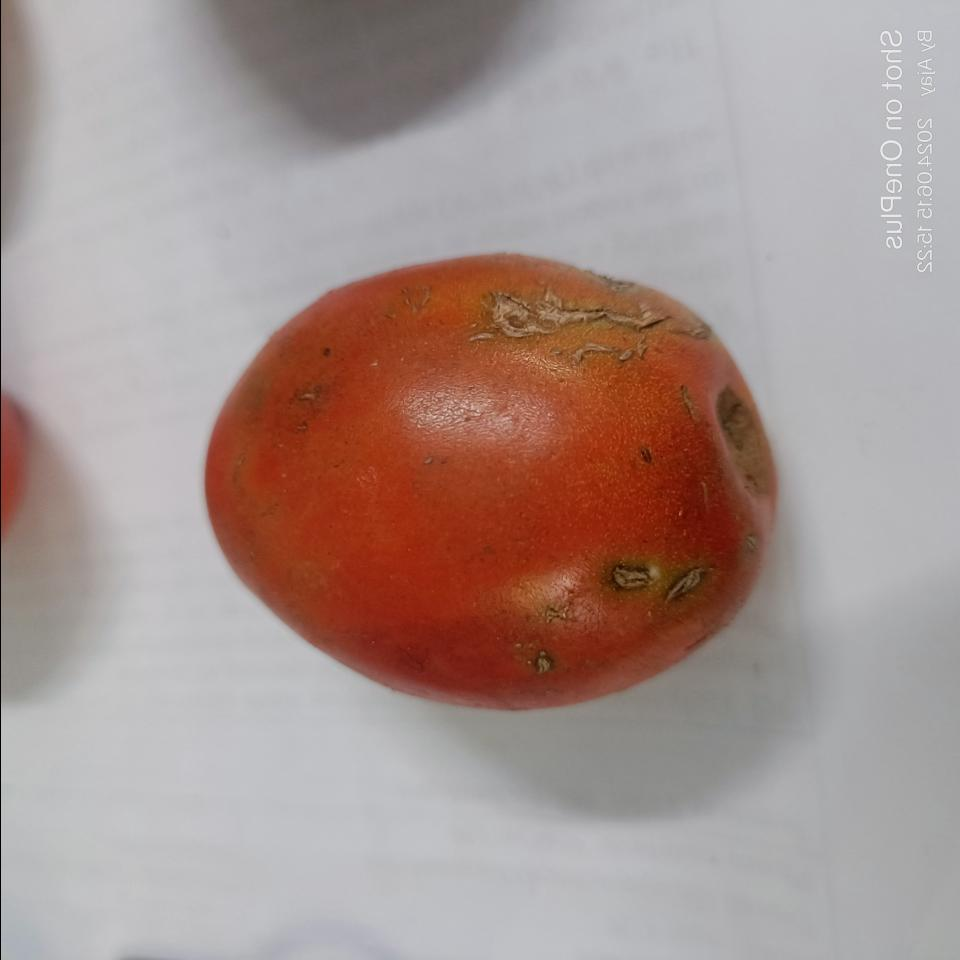Cracking: (487, 290, 688, 346)
